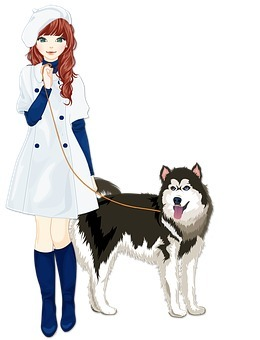dog: (72, 161, 216, 317)
person: (3, 4, 98, 336)
